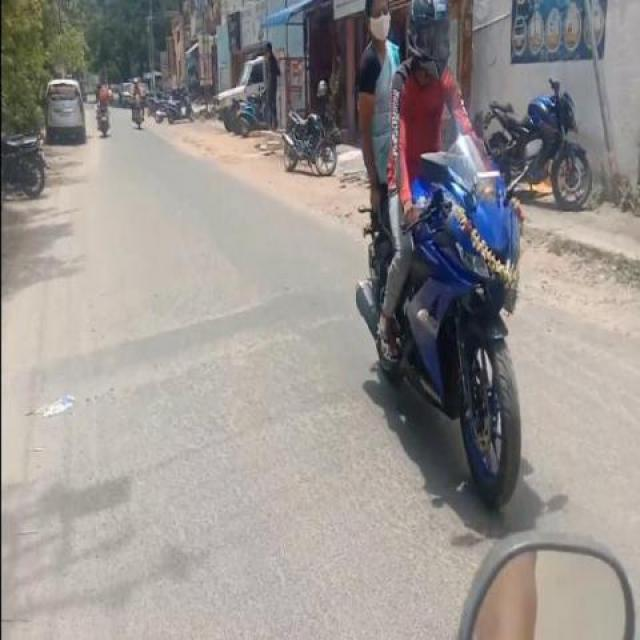Unmarked Bump: (4, 274, 358, 416)
